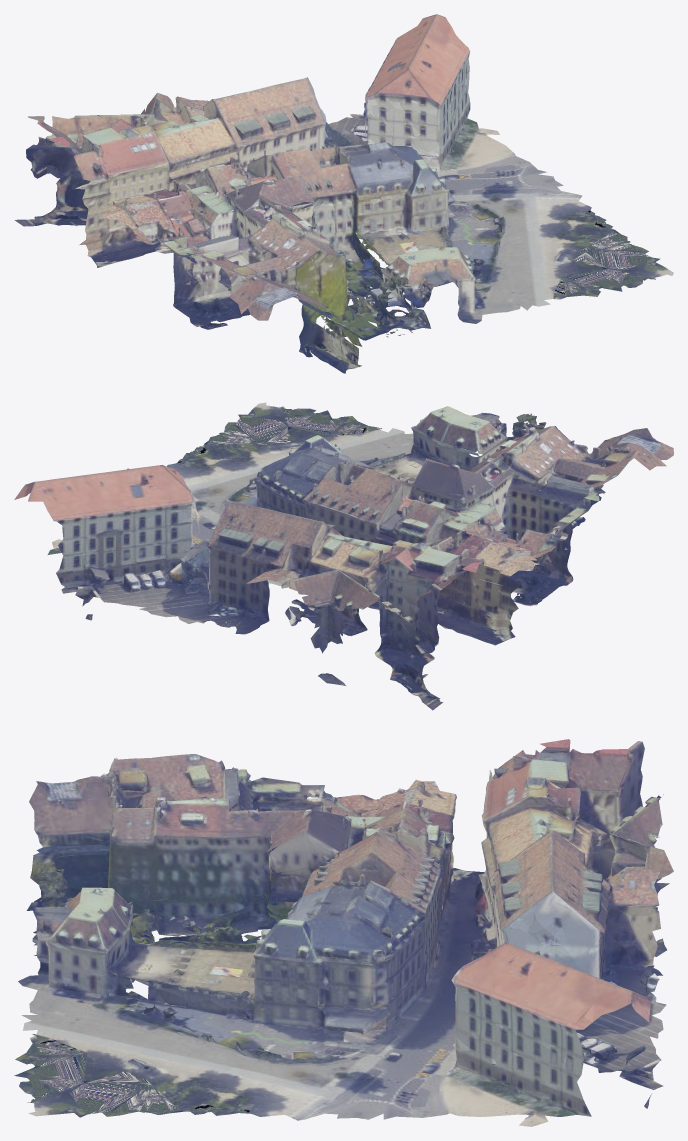
3 views of the same model, one above another, from view 1: azimuth 30°, elevation 25°; view 2: azimuth 150°, elevation 25°; view 3: azimuth 270°, elevation 25° (orthographic). The views are drawn at different scales.
Bounding box in the file's own units: 108 × 29.72 × 108.
Materials: 1 (1 with a texture image).
